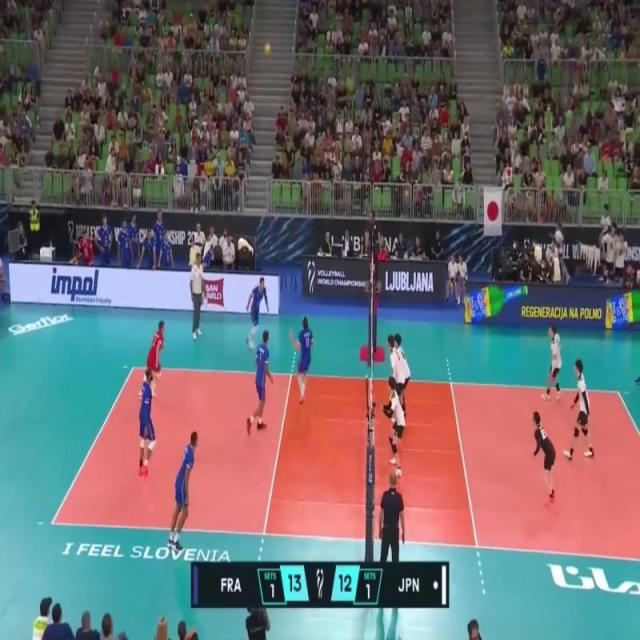volleyball: (264, 43, 272, 56)
